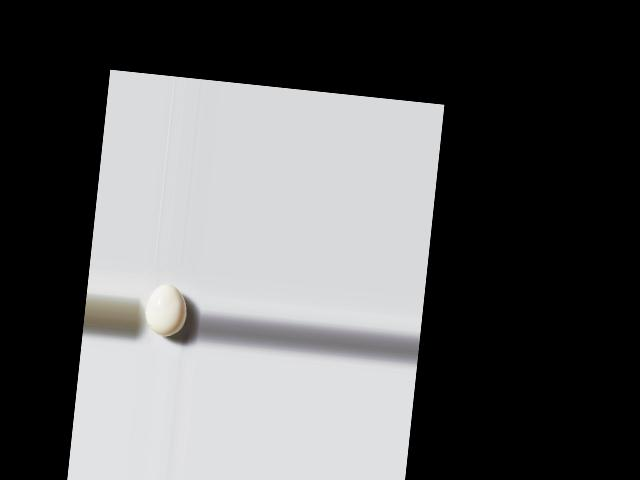egg: (143, 283, 189, 339)
